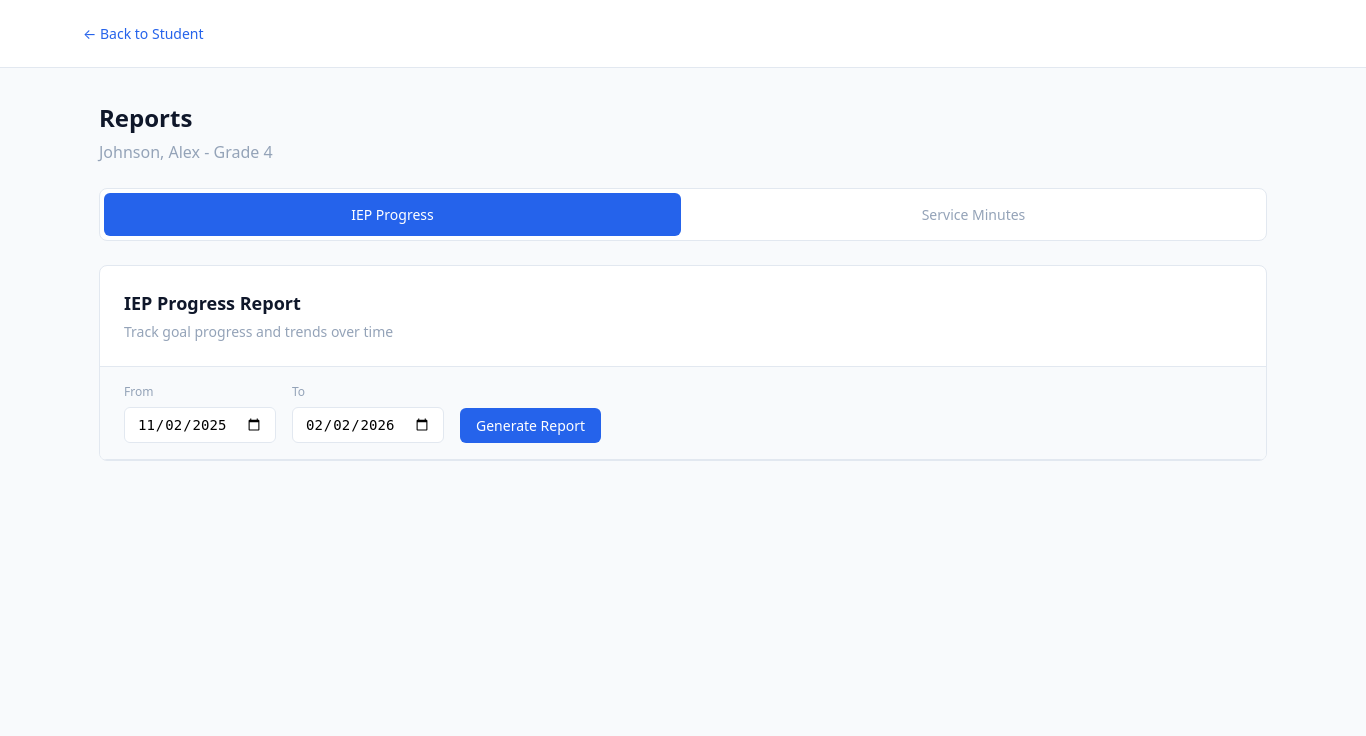
Test: Reports Page › IEP Progress Report › generates report when clicking button
Click the button "Generate Report". click: (531, 426)
box: 460,408 -> 601,443
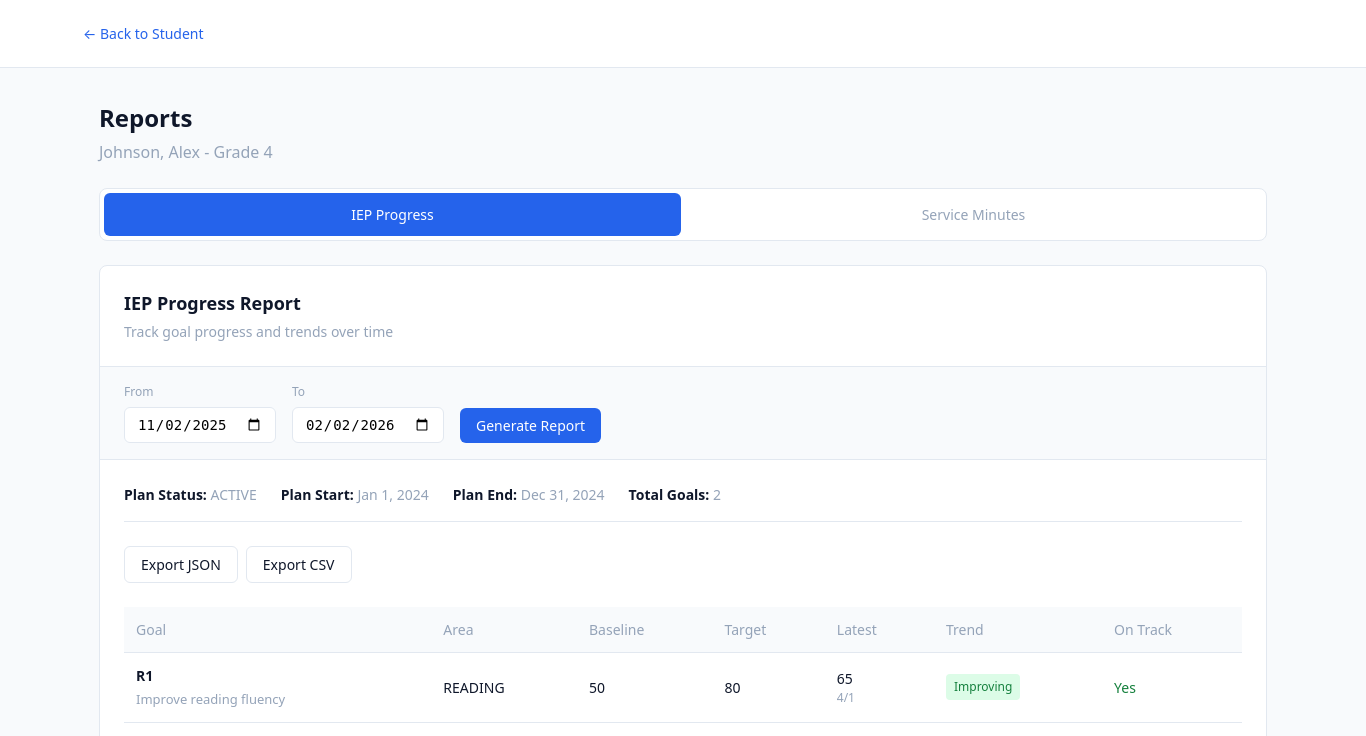
Result: the text "Plan Status:" is shown at 124,485 -> 207,504
Result: the text "Total Goals:" is shown at 629,485 -> 709,504
